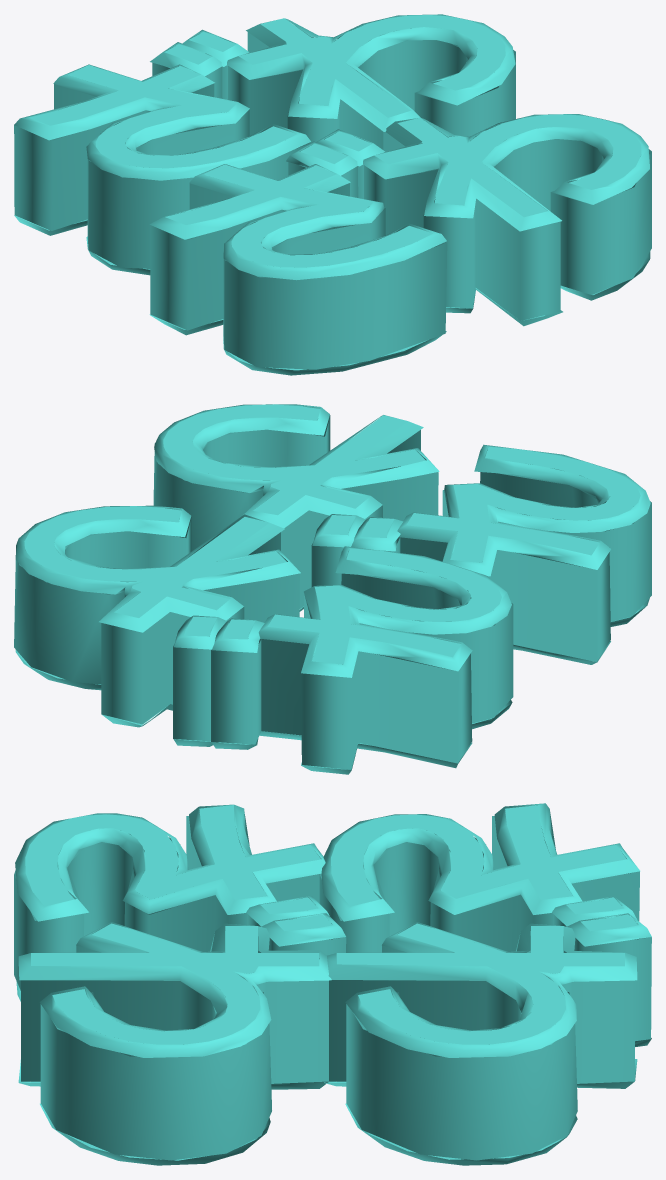
Rendered from zawazawatext.glb.
3 renders of one model, top to bottom at view 1: azimuth 30°, elevation 25°; view 2: azimuth 150°, elevation 25°; view 3: azimuth 270°, elevation 25°, orthographic. The views are drawn at different scales.
Parts seen in each view (by area): view 1: zawa; view 2: zawa; view 3: zawa.
Part boxes in pixels (x1,y1,x2,y2): zawa: (14,14,651,375); zawa: (14,404,651,774); zawa: (14,803,651,1165).
Bounding box in the file's own units: 1.16 × 0.2701 × 1.25.
